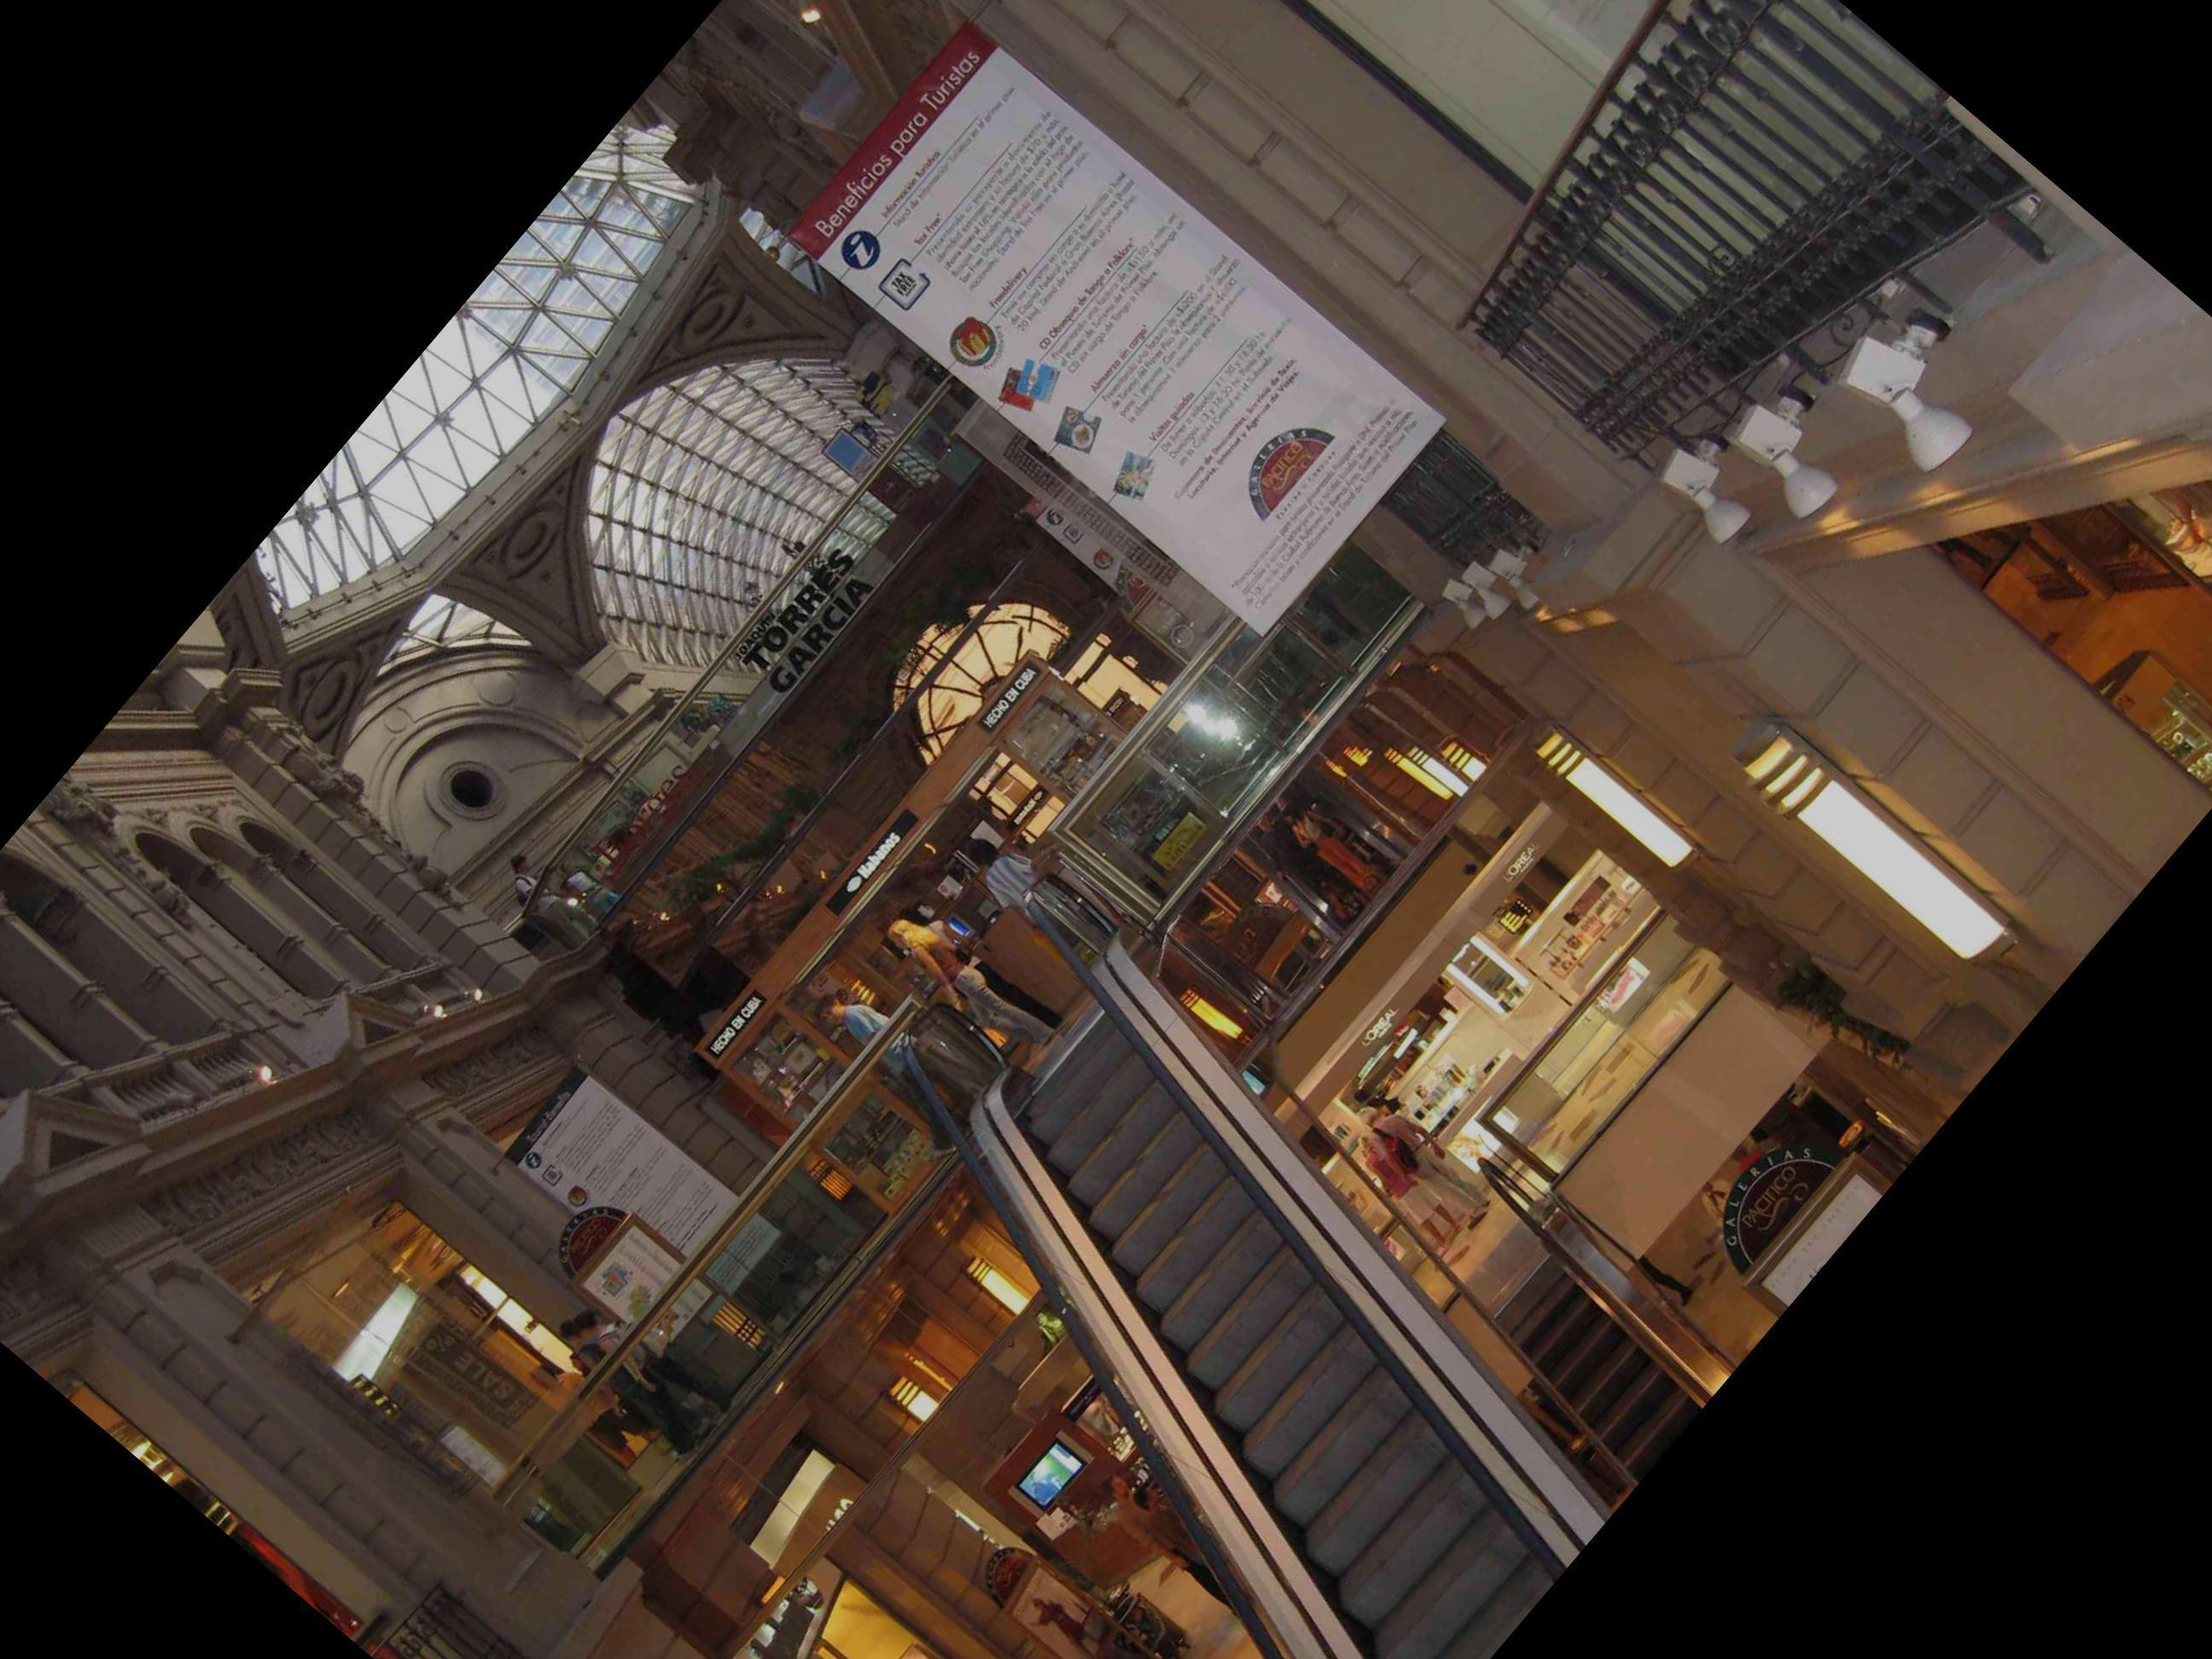Escaleras: (704, 838, 1719, 1659)
